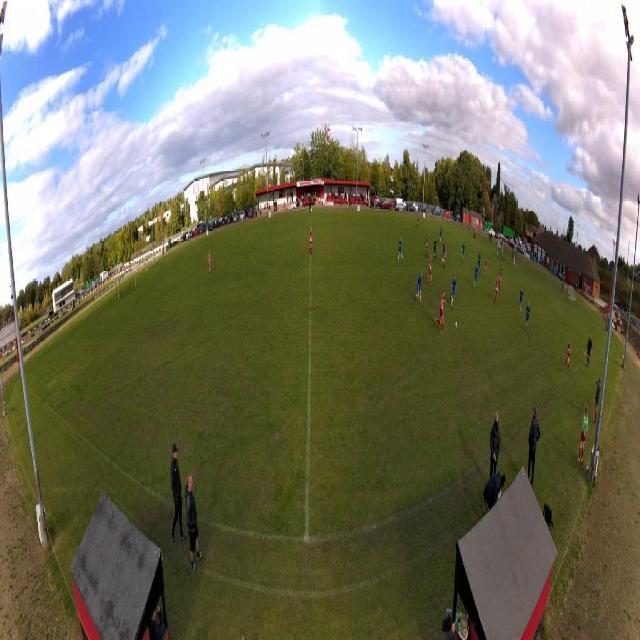ball: (455, 321, 458, 328)
player: (435, 287, 447, 337), (448, 272, 457, 311), (414, 271, 423, 307), (396, 235, 404, 264), (427, 253, 433, 287), (525, 300, 531, 331), (494, 275, 500, 305), (473, 263, 479, 291), (519, 286, 524, 313), (433, 236, 438, 263), (309, 226, 313, 255), (461, 241, 466, 263), (477, 251, 481, 277), (441, 239, 445, 265), (443, 244, 447, 270), (208, 249, 212, 275), (425, 233, 429, 258), (499, 267, 503, 292), (484, 257, 488, 282), (440, 225, 443, 244), (416, 216, 420, 230), (501, 245, 504, 262)
